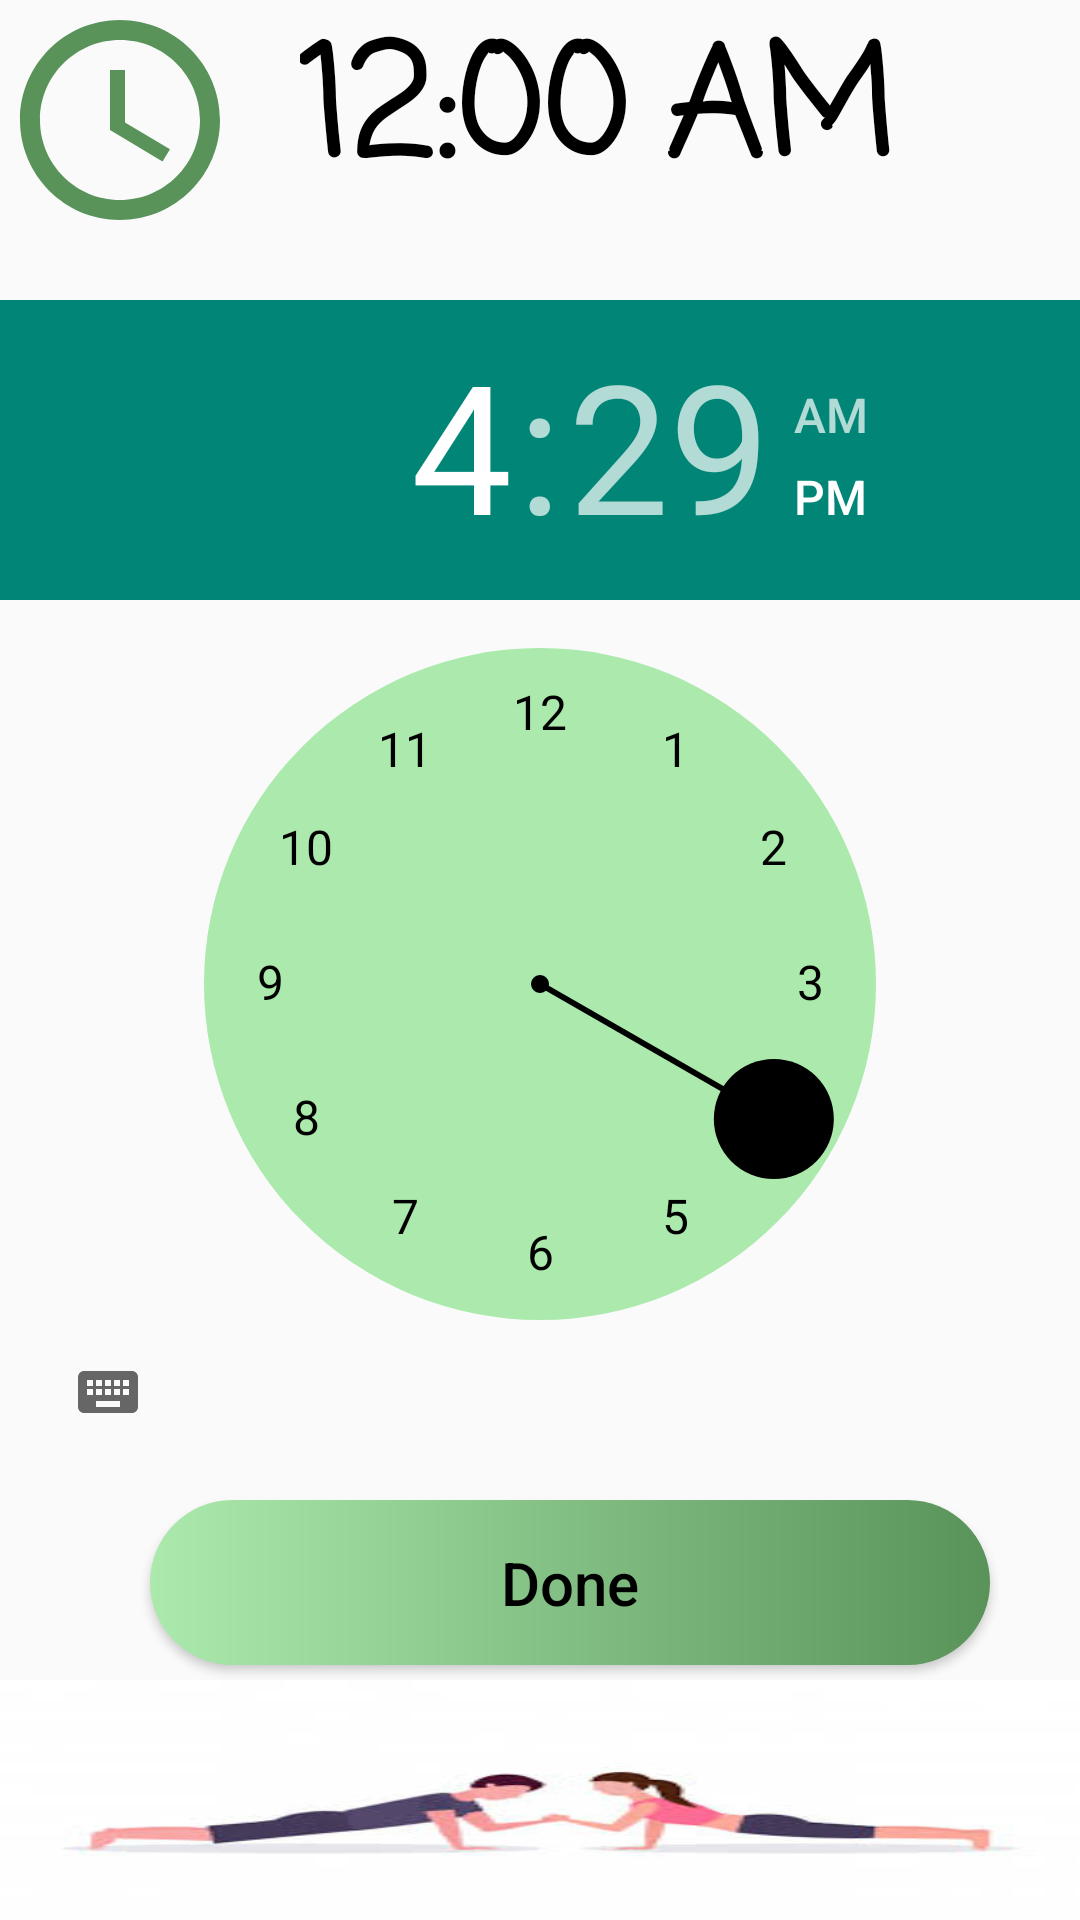

Where to tap for icons on this 1080px x 1920px app screen, as (x,y):
clockc: (120,120)
